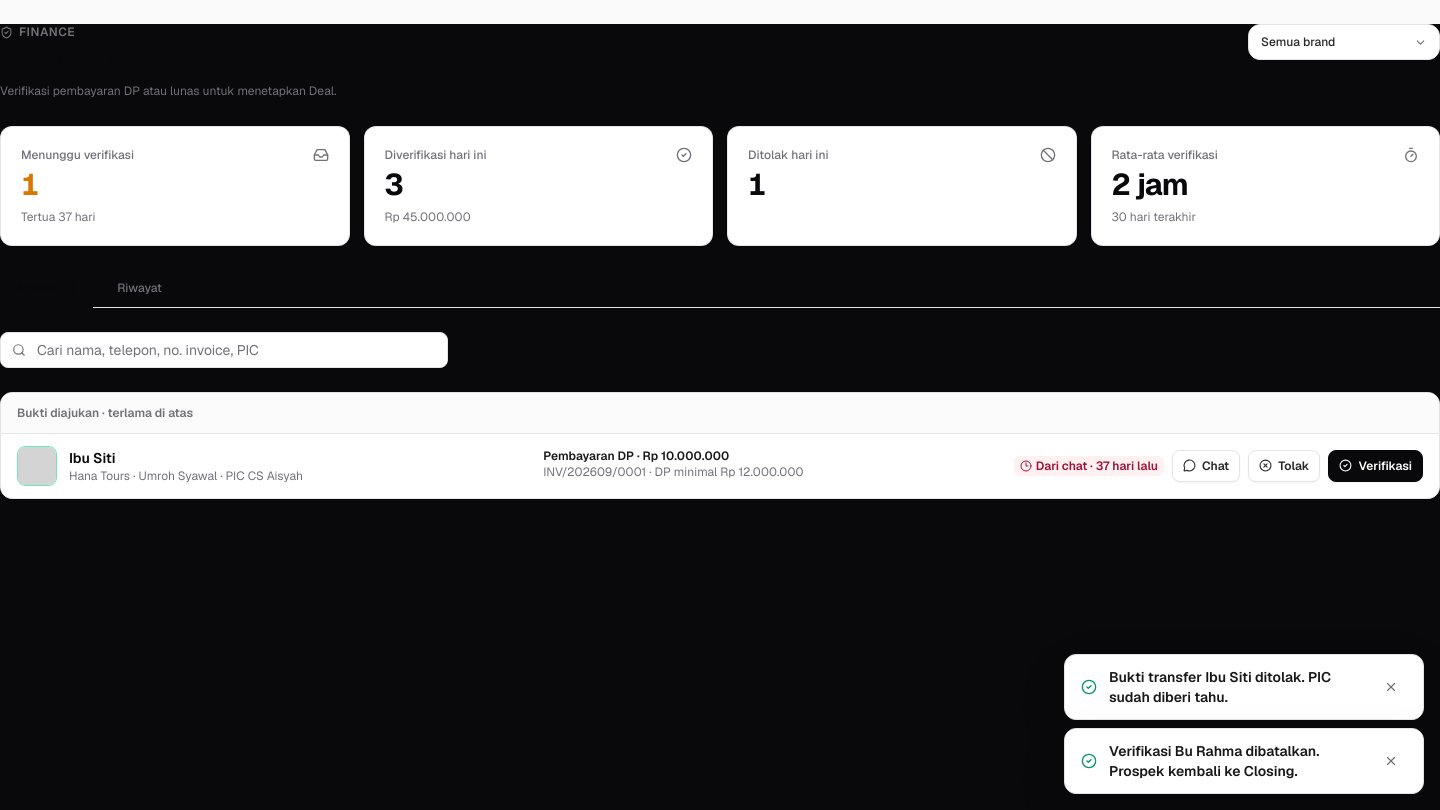
it: Menu Verifikasi Pembayaran › modal verifikasi: patokan, peringatan selisih invoice, dan DP minimal custom
The image size is (1440, 810).
Click the button "Verifikasi" at (1376,466), box [1328,450,1423,482]
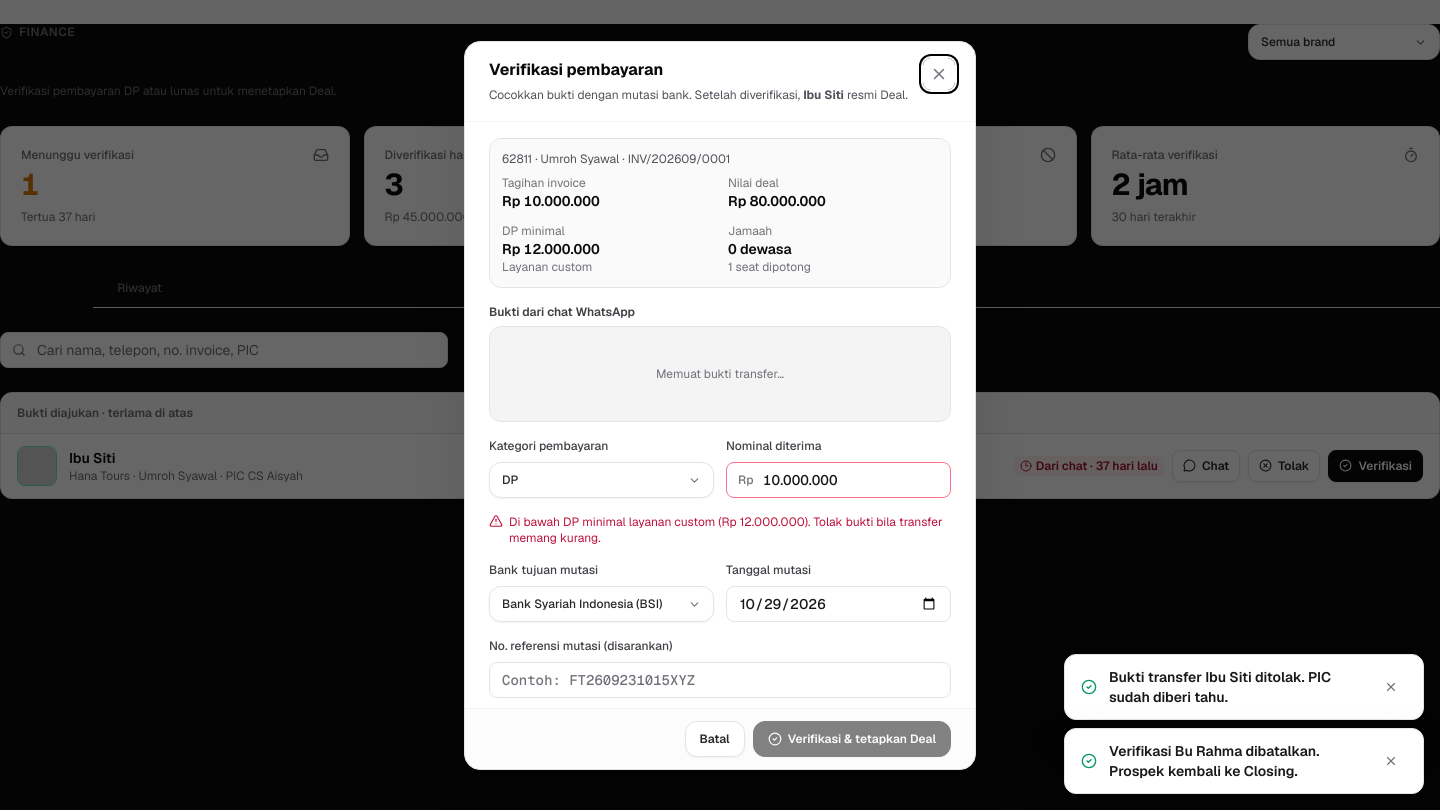
expect the dialog "Verifikasi pembayaran" shows "Bukti dari chat WhatsApp": met, box [489,304,635,320]
expect the button "Verifikasi & tetapkan Deal" is disabled: met, box [753,720,951,756]
expect the message that starts with "Di bawah DP minimal layanan custom (" is shown: met, box [509,514,722,530]
Replace the text in the field named "Nominal diterima" with "12.500.000" at (838,480), box [726,462,951,498]
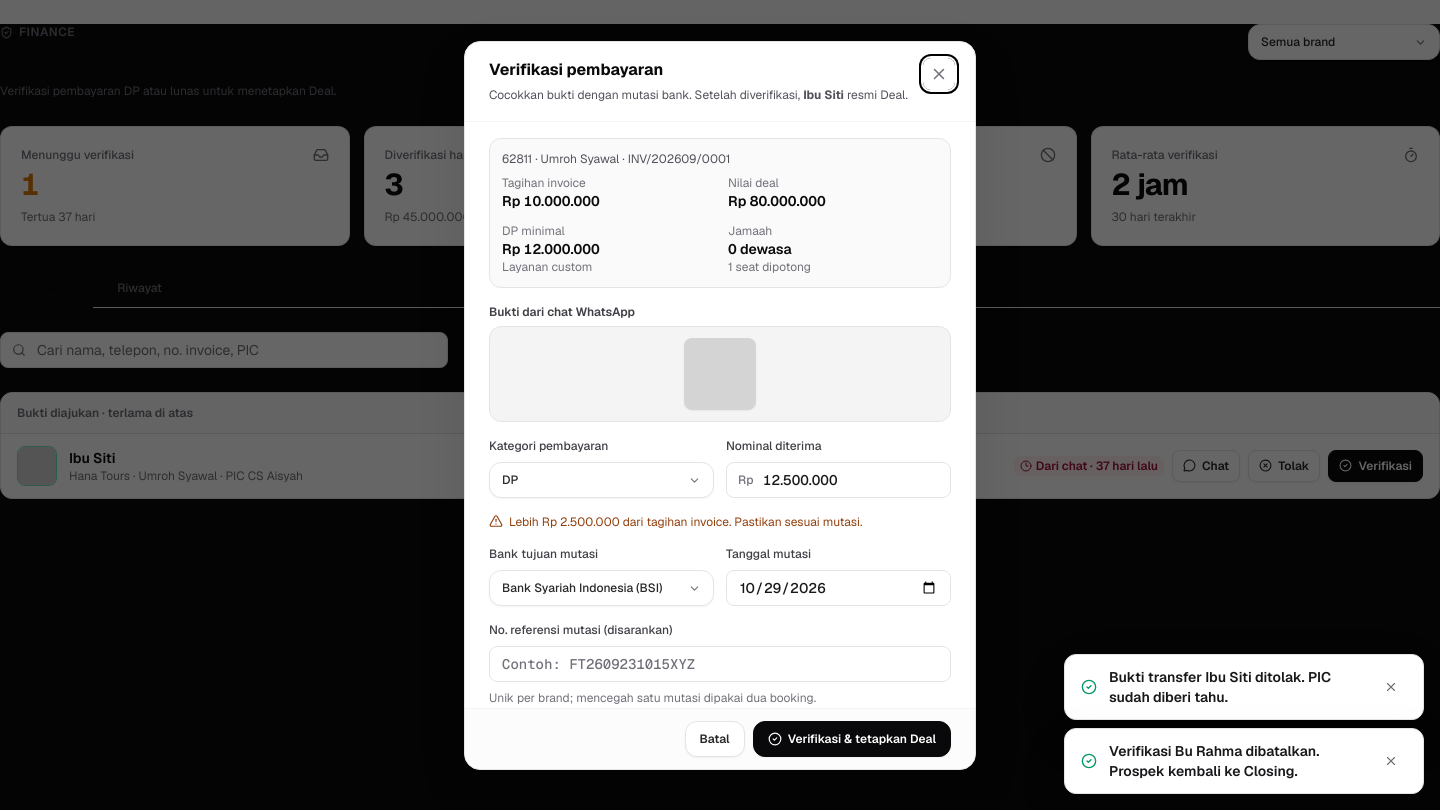
expect the button "Verifikasi & tetapkan Deal" is enabled: met, box [753,720,951,756]
